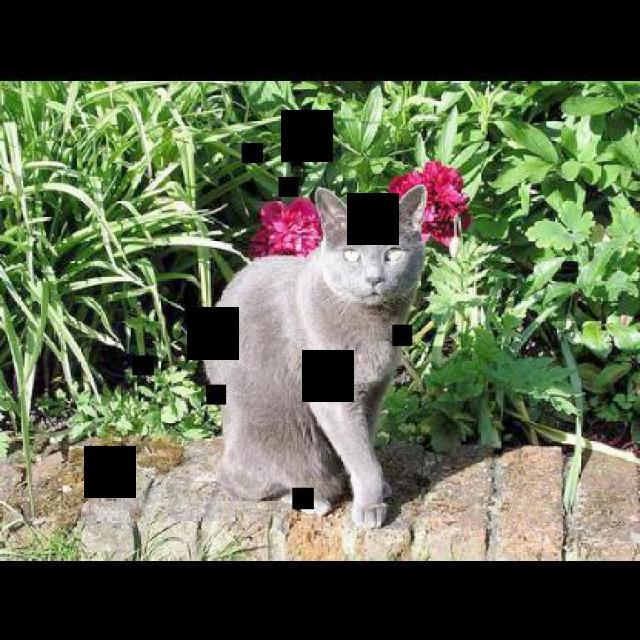unauthorized: (200, 183, 428, 529)
